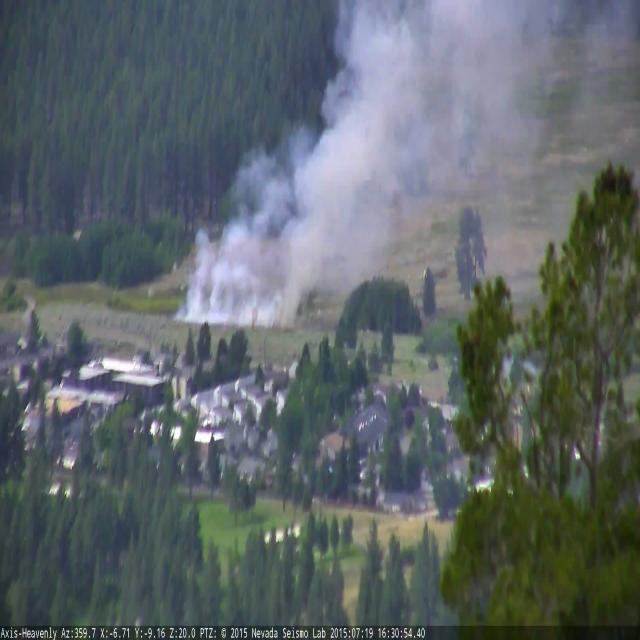smoke: (182, 0, 550, 324)
